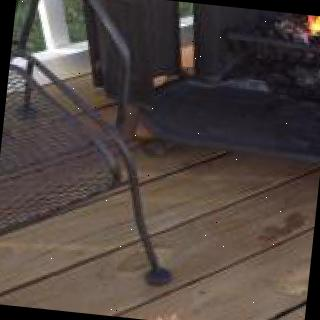fire: (240, 8, 320, 55)
